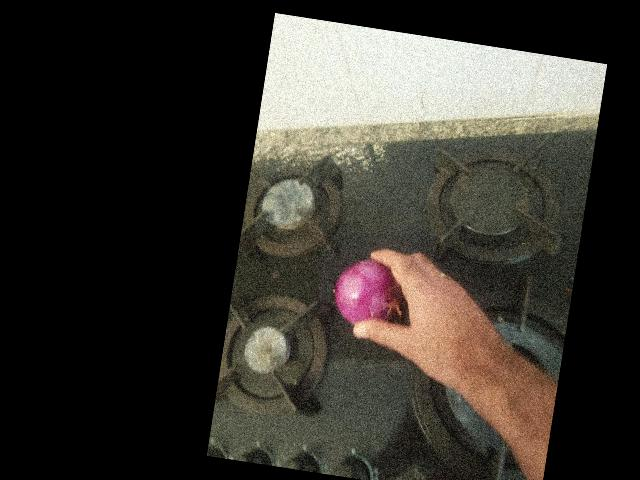onion: (289, 121, 360, 192)
